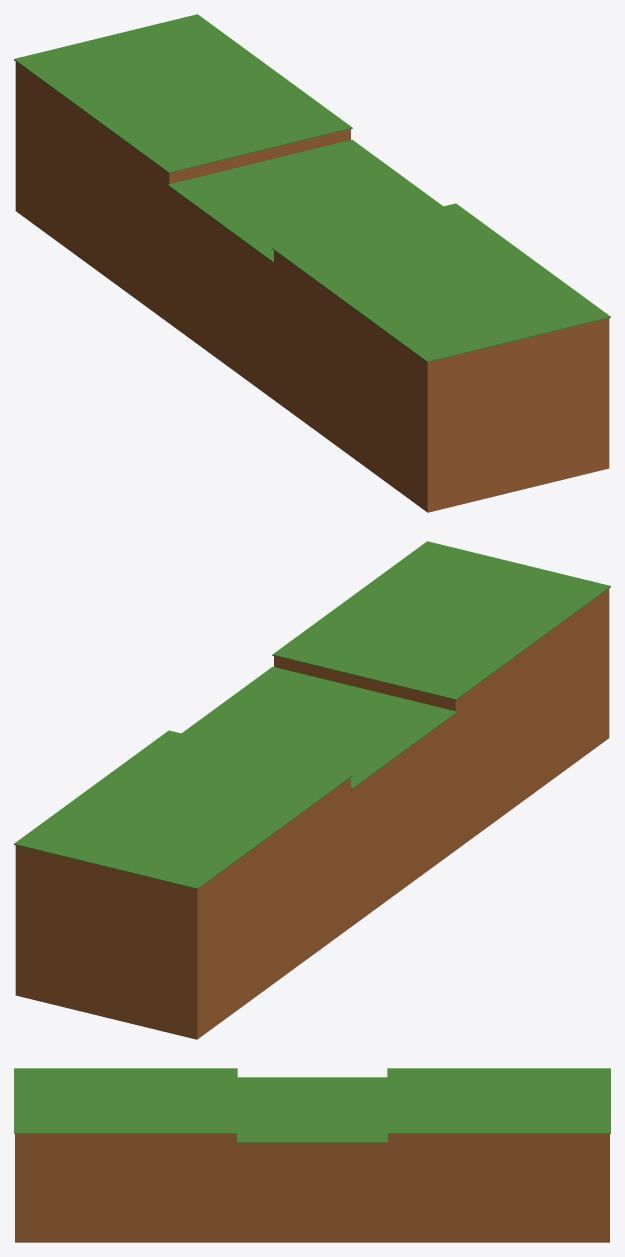
File: O_SPlatform7.glb
3 views of the same model, one above another, from view 1: azimuth 30°, elevation 25°; view 2: azimuth 150°, elevation 25°; view 3: azimuth 270°, elevation 25° (orthographic). The views are drawn at different scales.
Visible parts, largest first — view 1: SPlatform7; view 2: SPlatform7; view 3: SPlatform7.
Part boxes in pixels (x1,y1,x2,y2): SPlatform7: [14, 14, 610, 512]; SPlatform7: [14, 541, 610, 1039]; SPlatform7: [14, 1068, 610, 1242].
Size of what is drawn, in the model's own units: 15.25 by 12 by 59.18.
